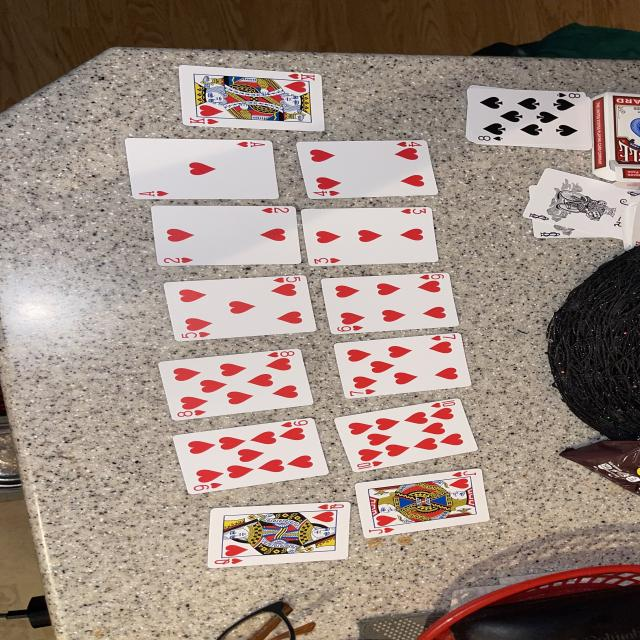10 of hearts: (333, 399, 478, 472)
2 of hearts: (151, 205, 302, 266)
3 of hearts: (302, 208, 438, 266)
4 of hearts: (296, 140, 438, 199)
5 of hearts: (164, 275, 316, 341)
6 of hearts: (322, 272, 460, 334)
7 of hearts: (333, 334, 471, 399)
8 of hearts: (158, 349, 313, 420)
8 of spades: (467, 85, 591, 150)
9 of hearts: (173, 419, 329, 494)
Ace of hearts: (124, 139, 278, 199)
Jack of hearts: (356, 469, 489, 538)
Joker: (522, 169, 640, 239), (531, 220, 604, 239)
King of hearts: (180, 65, 324, 131)
Queen of hearts: (207, 502, 351, 568)
